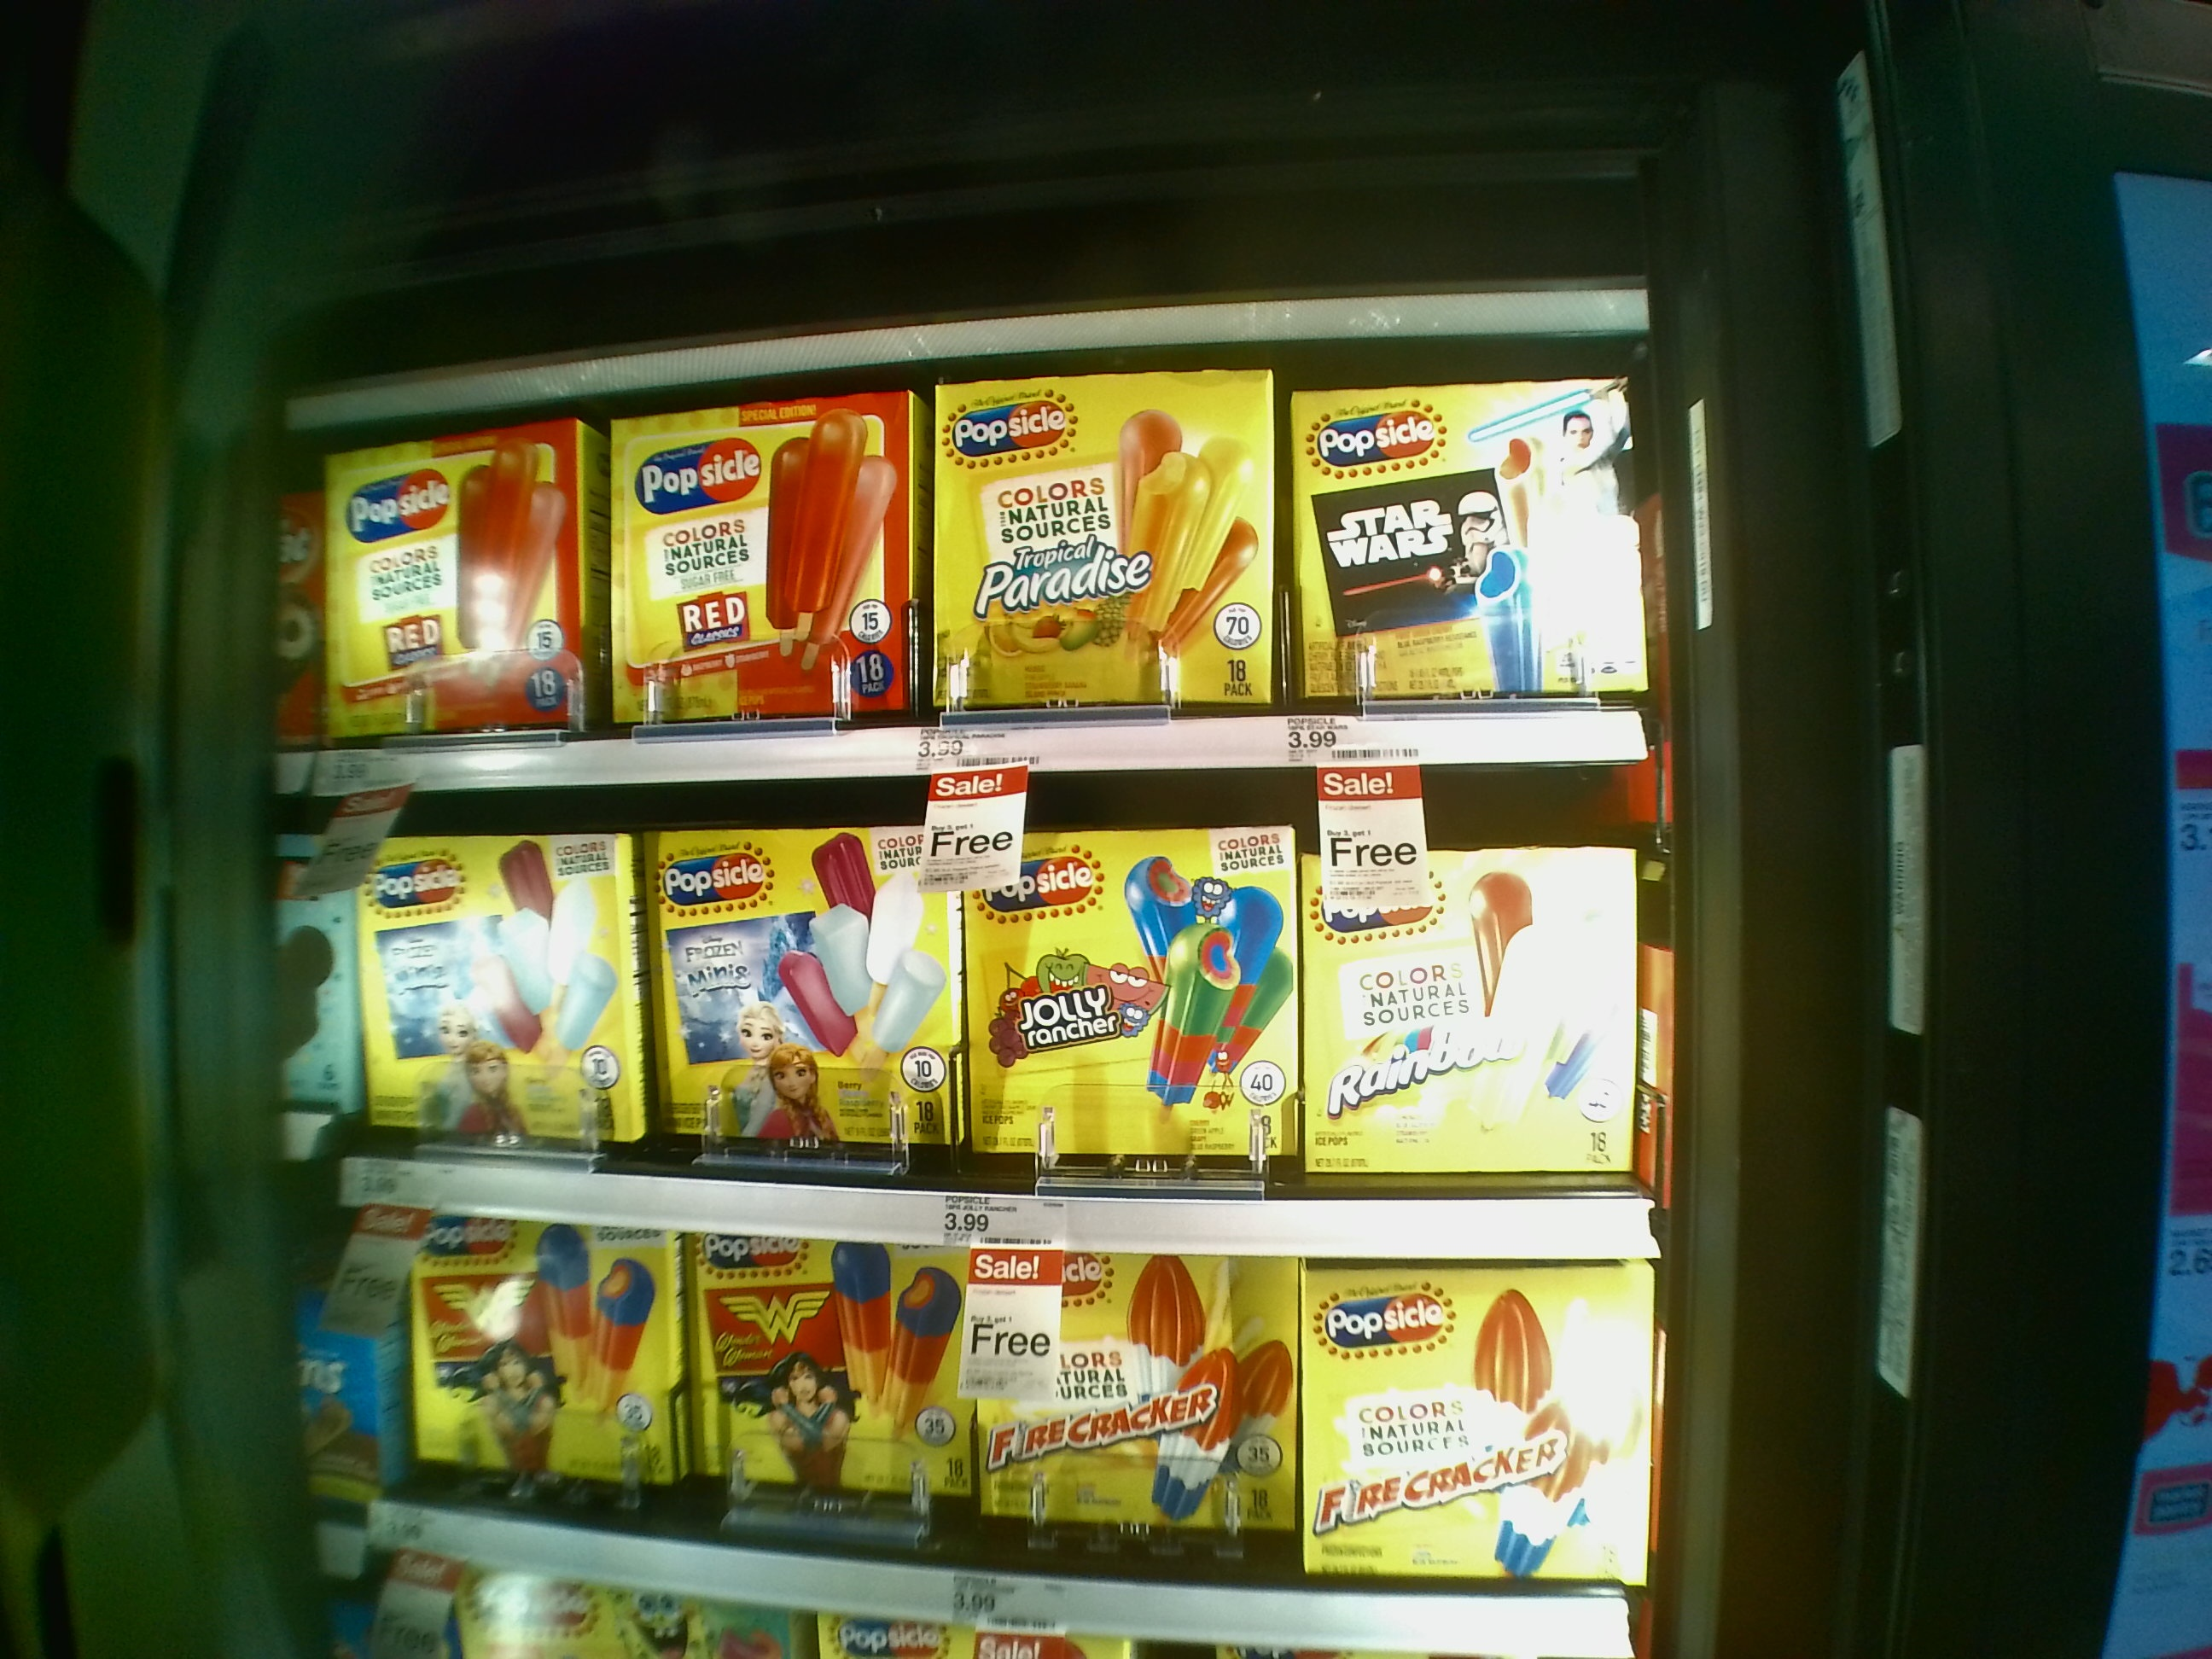shelf: (340, 798, 1663, 1265), (373, 1227, 1649, 1659), (305, 415, 1625, 788)
